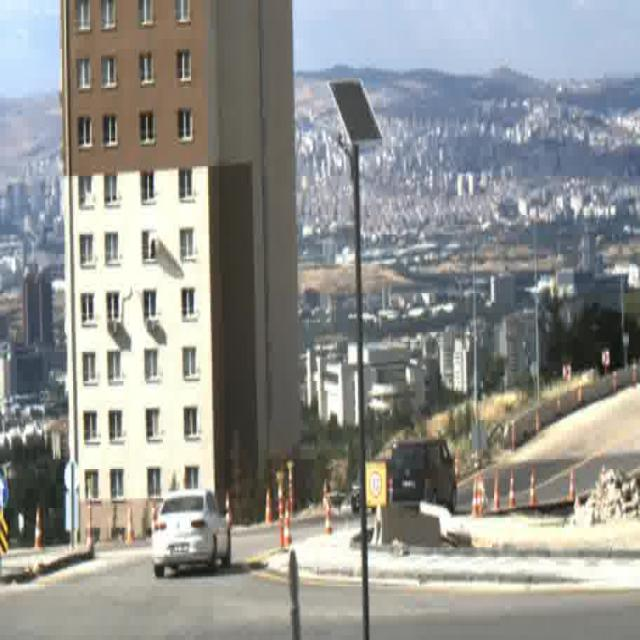Car: (150, 492, 232, 577), (391, 437, 459, 516), (349, 464, 403, 514)
